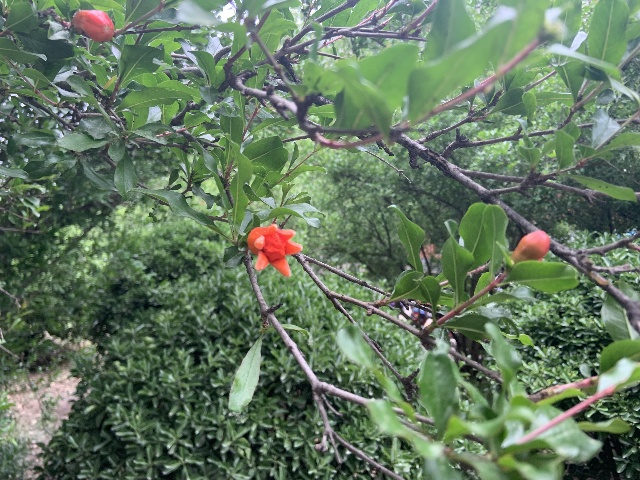bud: (72, 9, 114, 42), (510, 229, 550, 263)
flower: (246, 220, 301, 276)
